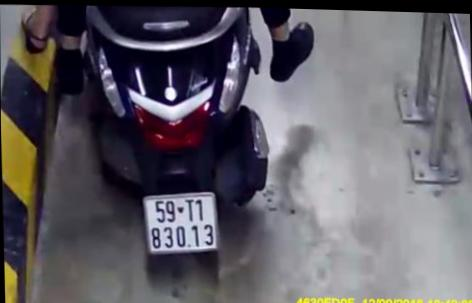LP: (142, 189, 218, 255)
